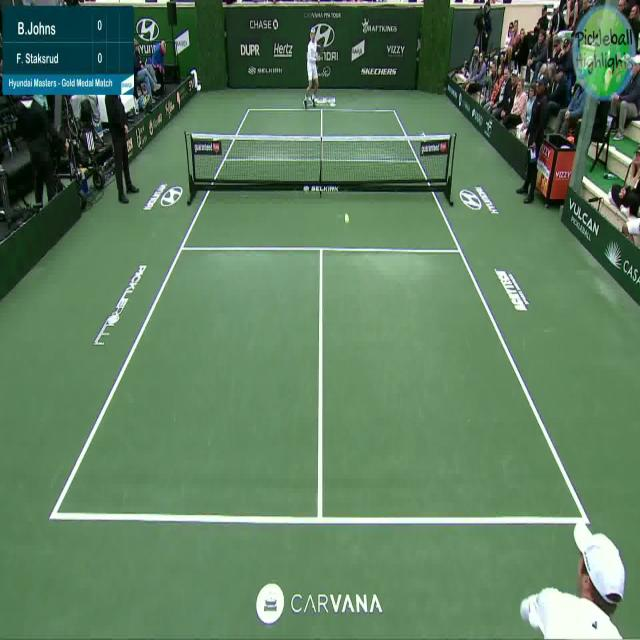ball: (341, 209, 355, 228)
